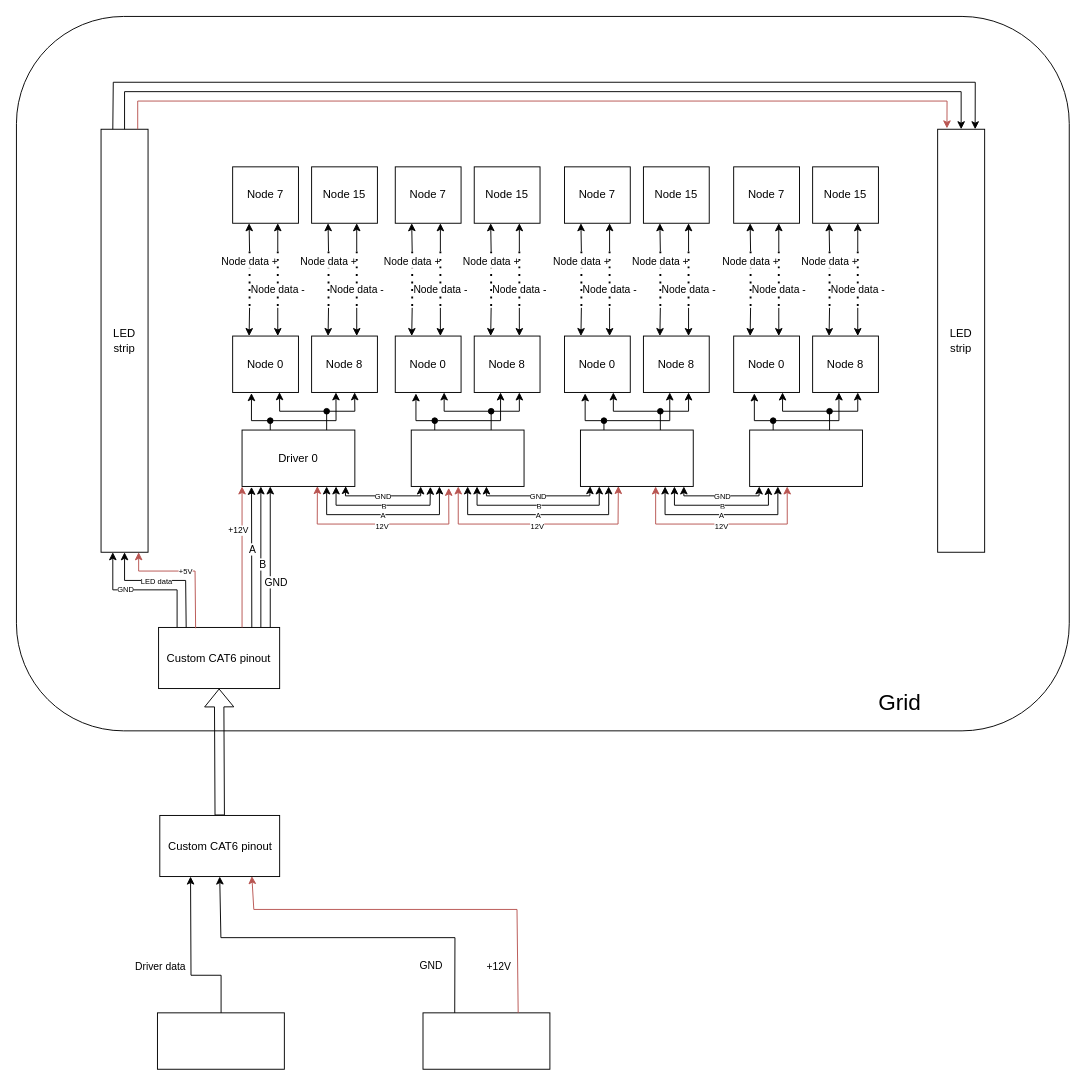
Some shapes in this 1086 by 1086 pixel diagram are drawn without their labels. Here are the shapes that lost their labels. From the top down, the centre of each, then its label:
point (467, 457): Driver 1
point (636, 457): Driver 2
point (805, 457): Driver 3
point (220, 1040): Show computer with TouchDesigner
point (486, 1040): Power supply
